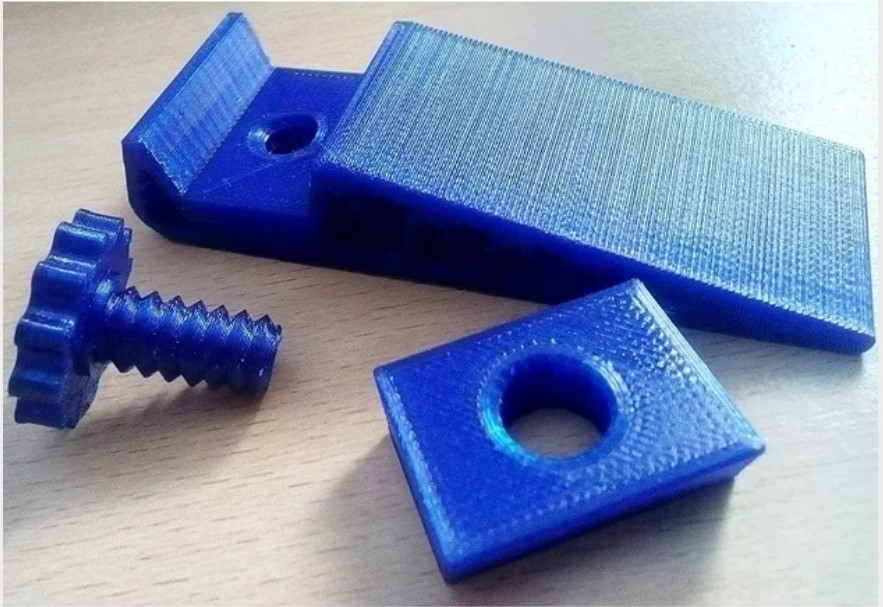Good: (8, 4, 883, 595)
